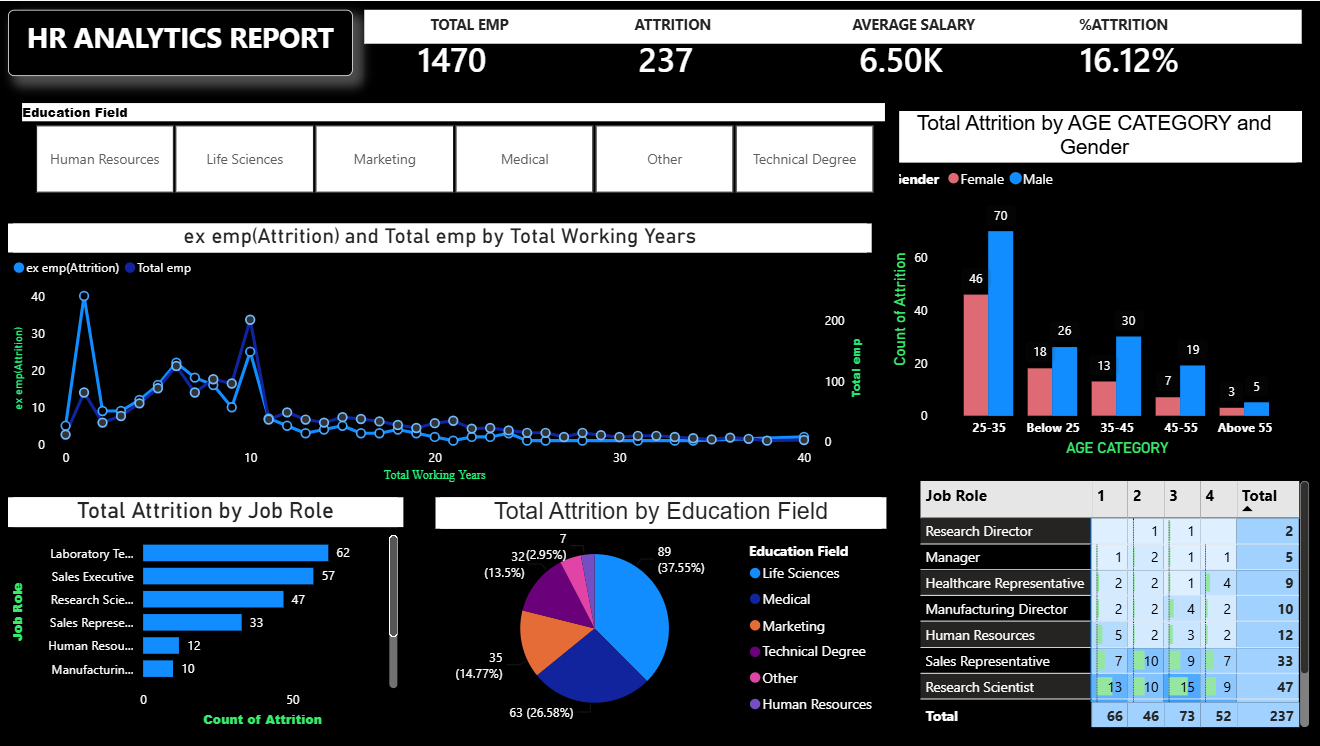

The page's visual inventory and layout, read from the dashboard file:
{"tool":"powerbi","page":{"name":"Page 3","canvas":[1280,720],"ordinal":2},"visuals":[{"type":"textbox","box":[9.7,8.4,333,63.9],"z":0},{"type":"lineChart","fields":{"Category":["Sheet1.Total Working Years"],"Y2":["Sheet1.Total emp"],"Y":["Sheet1.ex emp"]},"box":[9.7,214.7,833.7,254.6],"z":1000},{"type":"clusteredColumnChart","title":"Total Attrition by AGE CATEGORY and Gender","fields":{"Series":["Sheet1.Gender"],"Category":["Sheet1.Age Category"],"Y":["CountNonNull(Sheet1.Attrition)"]},"box":[857.8,106.2,400.5,337.8],"z":2000},{"type":"barChart","title":"Total Attrition by Job Role","fields":{"Category":["Sheet1.Job Role"],"Y":["CountNonNull(Sheet1.Attrition)"]},"box":[9.7,479,381.2,228],"z":3000},{"type":"pieChart","title":"Total Attrition by Education Field","fields":{"Category":["Sheet1.Education Field"],"Y":["CountNonNull(Sheet1.Attrition)"]},"box":[422.3,479,435.5,228],"z":4000},{"type":"pivotTable","fields":{"Rows":["Sheet1.Job Role"],"Columns":["Sheet1.Job Satisfaction"],"Values":["CountNonNull(Sheet1.Attrition)"]},"box":[885.5,458.4,384.9,247.3],"z":5000},{"type":"slicer","fields":{"Values":["Sheet1.Education Field"]},"box":[9.7,92.9,860.2,100.1],"z":6000},{"type":"cardVisual","title":"TOTAL EMP                                                                                                                                                              ex      ","fields":{"Data":["Sheet1.Total emp","Sheet1.ex emp","Avg(Sheet1.Monthly Income)","Sheet1.% attrition"]},"box":[370.4,16.9,900,76],"z":7000},{"type":"textbox","box":[353.5,8.4,904.8,32.6],"z":8000}]}

Visuals, with their boxes in screenshot pixels (x1, y1, x2, y2), scaled from the page's 1280x720 canvas onto the 1320x746 screenshot:
textbox: BBox(10, 9, 353, 75)
lineChart - Sheet1.Total Working Years x Sheet1.Total emp: BBox(10, 222, 870, 486)
"Total Attrition by AGE CATEGORY and Gender" clusteredColumnChart: BBox(885, 110, 1298, 460)
"Total Attrition by Job Role" barChart: BBox(10, 496, 403, 733)
"Total Attrition by Education Field" pieChart: BBox(435, 496, 885, 733)
pivotTable - Sheet1.Job Role x Sheet1.Job Satisfaction: BBox(913, 475, 1310, 731)
slicer - Sheet1.Education Field: BBox(10, 96, 897, 200)
"TOTAL EMP                                                                                                                                                              ex      " cardVisual: BBox(382, 18, 1310, 96)
textbox: BBox(365, 9, 1298, 42)
